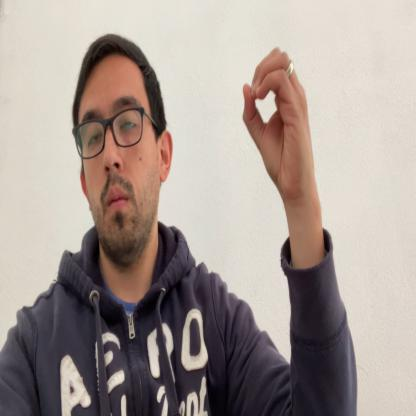O: (240, 44, 308, 202)
